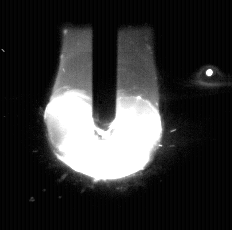arame: (93, 0, 118, 131)
poca: (48, 0, 162, 230)
